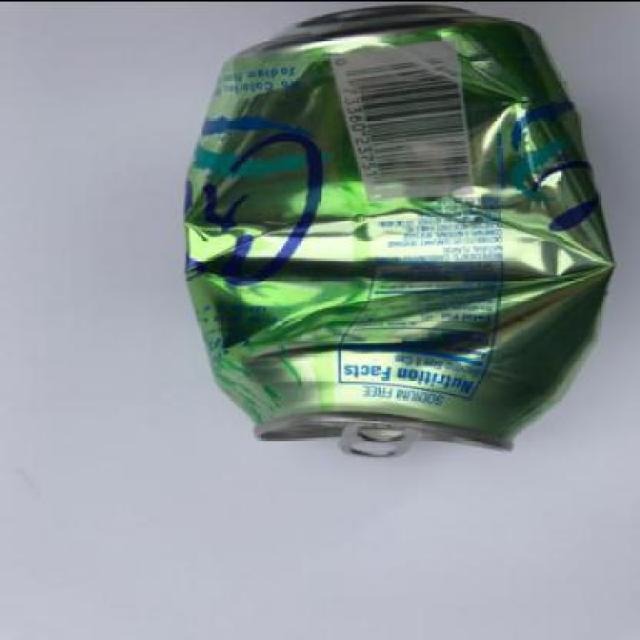METAL: (180, 6, 617, 459)
